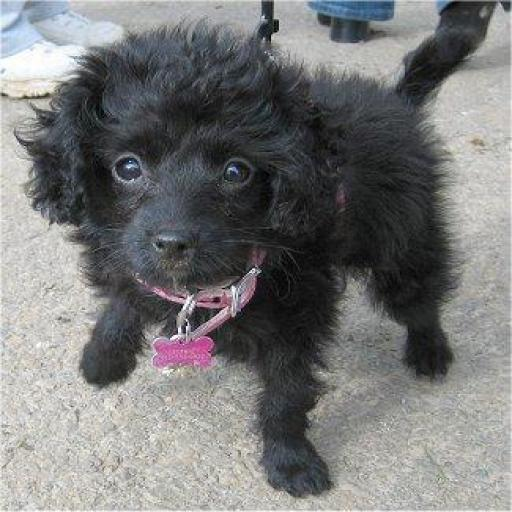dog_face: (15, 47, 335, 303)
